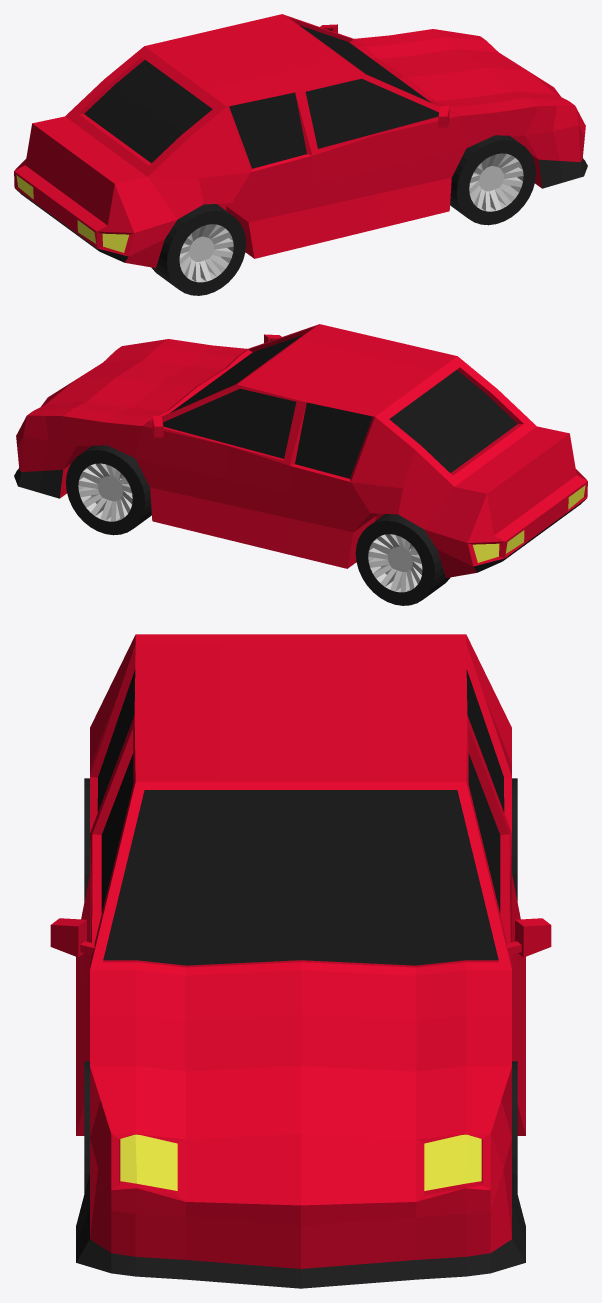
Rendered from car 1.fbx.
3 views of the same model, one above another, from view 1: azimuth 30°, elevation 25°; view 2: azimuth 150°, elevation 25°; view 3: azimuth 270°, elevation 25° (orthographic). The views are drawn at different scales.
Visible parts, largest first — view 1: Cube; view 2: Cube; view 3: Cube.
Part boxes in pixels (box(x1,y1,x2,y2)): Cube: box(14, 14, 587, 295); Cube: box(14, 324, 587, 605); Cube: box(50, 634, 551, 1288).
Bounding box in the file's own units: 412 × 134 × 178.
